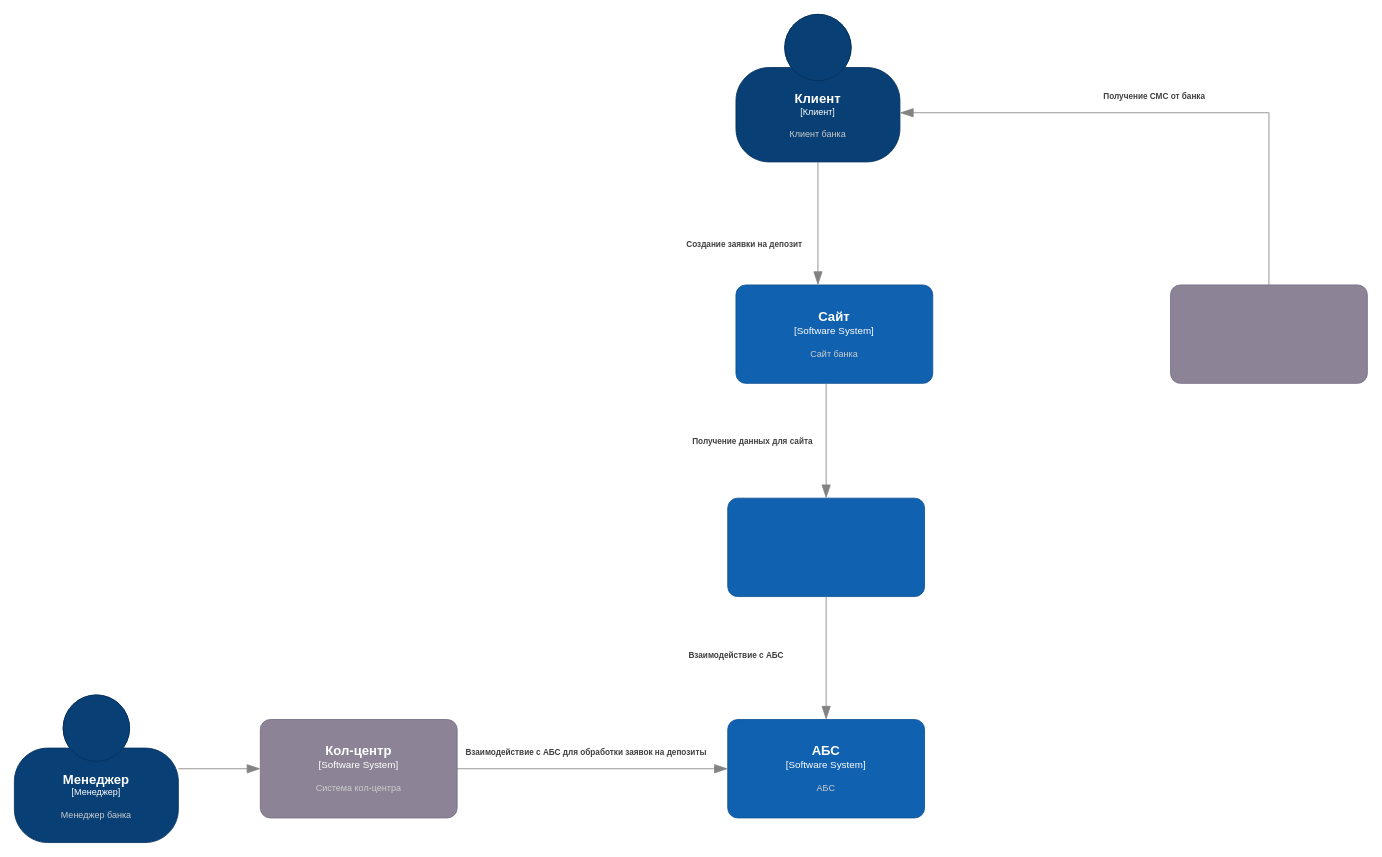
This 1382x857 diagram has some shape labels left out. Each missing label, with the centre of its shape:
Интернет-банк [Software System] Интернет-банк: the point at 826,547
Система телеком-оператора [Software System] Система телеком-оператора: the point at 1268,333
